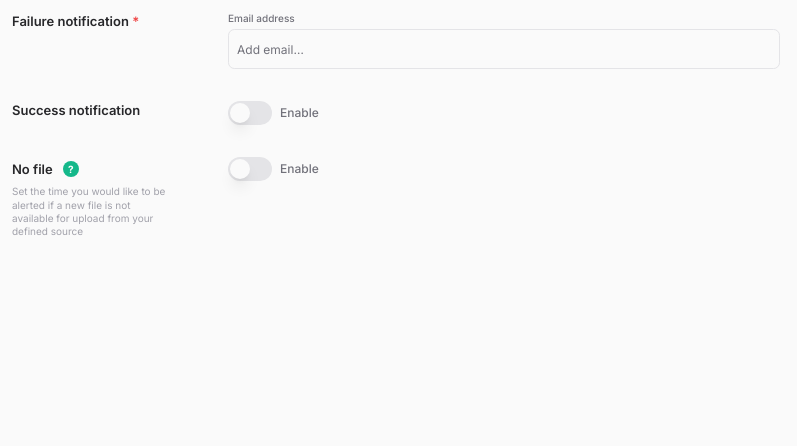
Test: NotificationsStep — No File frequency-specific content › shows "Day/s" suffix for Daily frequency
This screenshot has width=797, height=446.
Click the switch named "Enable" in the row of "No file" at (250, 169), box [228,157,272,181]
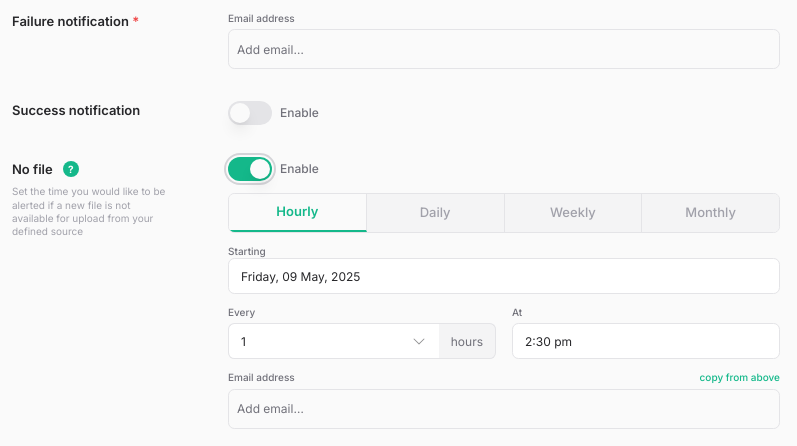
Click the radio button labelled "Daily" at (436, 213), box [367,194,505,232]
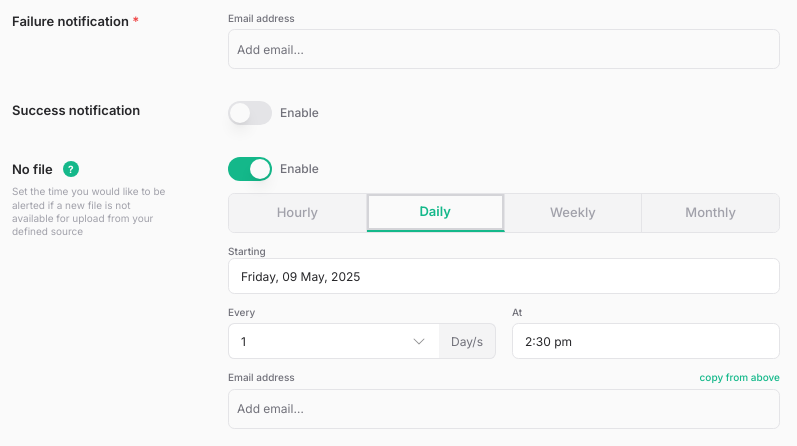
Expected: the text "Day/s" is shown, [439,324,496,360]
Expected: the text "hours" is gone
